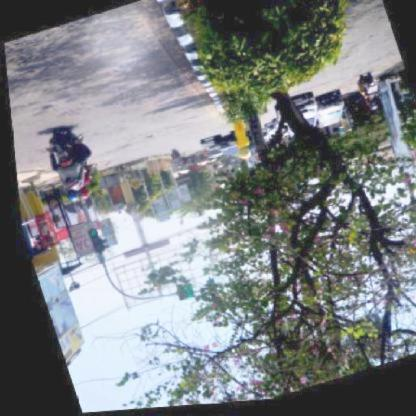Traffic Light -Green-: (82, 228, 100, 257)
